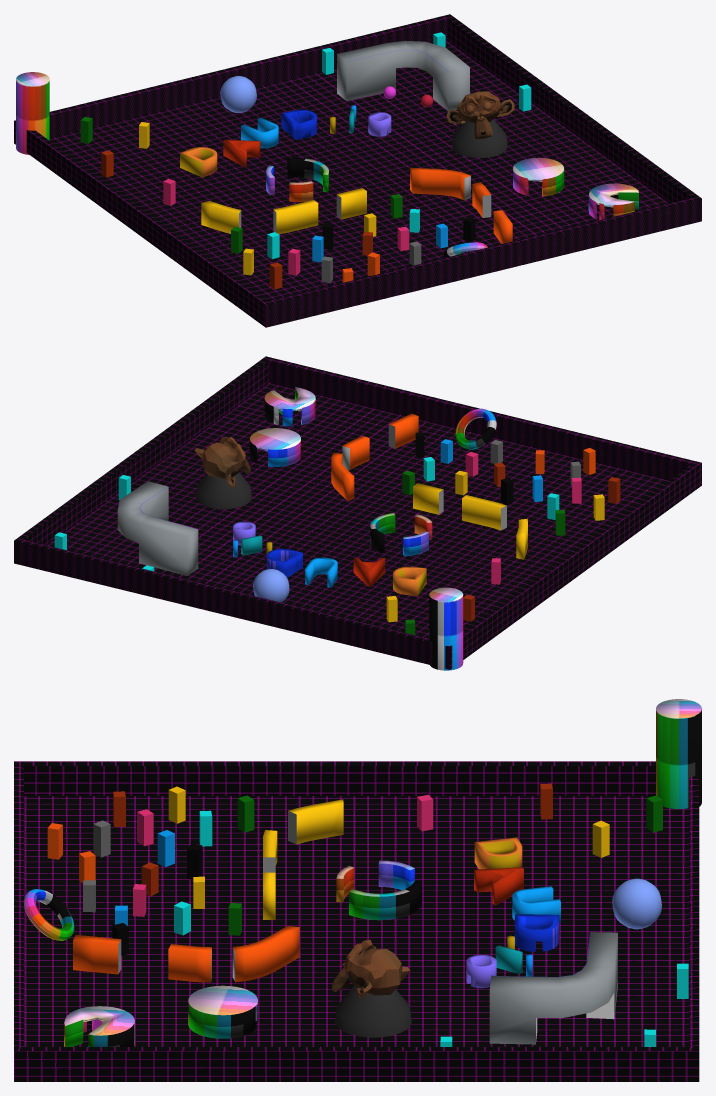
3 views of the same model, one above another, from view 1: azimuth 30°, elevation 25°; view 2: azimuth 150°, elevation 25°; view 3: azimuth 270°, elevation 25° (orthographic). The views are drawn at different scales.
Parts seen in each view (by area): view 1: Cube.001; view 2: Cube.001; view 3: Cube.001.
Part boxes in pixels (left/top/right/bottom): Cube.001: left=14, top=14, right=701, bottom=327; Cube.001: left=14, top=356, right=701, bottom=670; Cube.001: left=14, top=699, right=701, bottom=1081.
Size of the model in its own units: 20149 by 3017 by 20075.
Materials: 3 (3 with a texture image).
